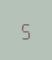five: (19, 19, 30, 40)
